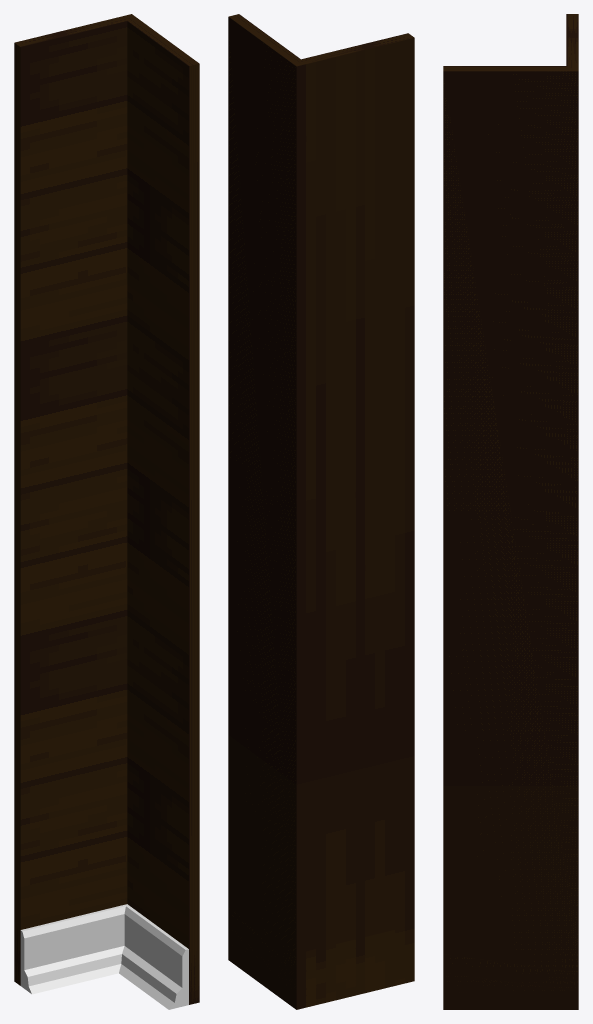
The model's file is wall_corner_2.glb.
3 renders of one model, left to right at view 1: azimuth 30°, elevation 25°; view 2: azimuth 210°, elevation 25°; view 3: azimuth 270°, elevation 25°, orthographic.
Visible parts, largest first — view 1: Cube.008; view 2: Cube.008; view 3: Cube.008.
Part boxes in pixels (bbox=[...]): Cube.008: bbox=[14, 14, 199, 1009]; Cube.008: bbox=[228, 14, 414, 1009]; Cube.008: bbox=[443, 14, 578, 1009].
Size of the model in its own units: 1.1 by 8.4 by 1.1.
Materials: 2 (1 with a texture image).
